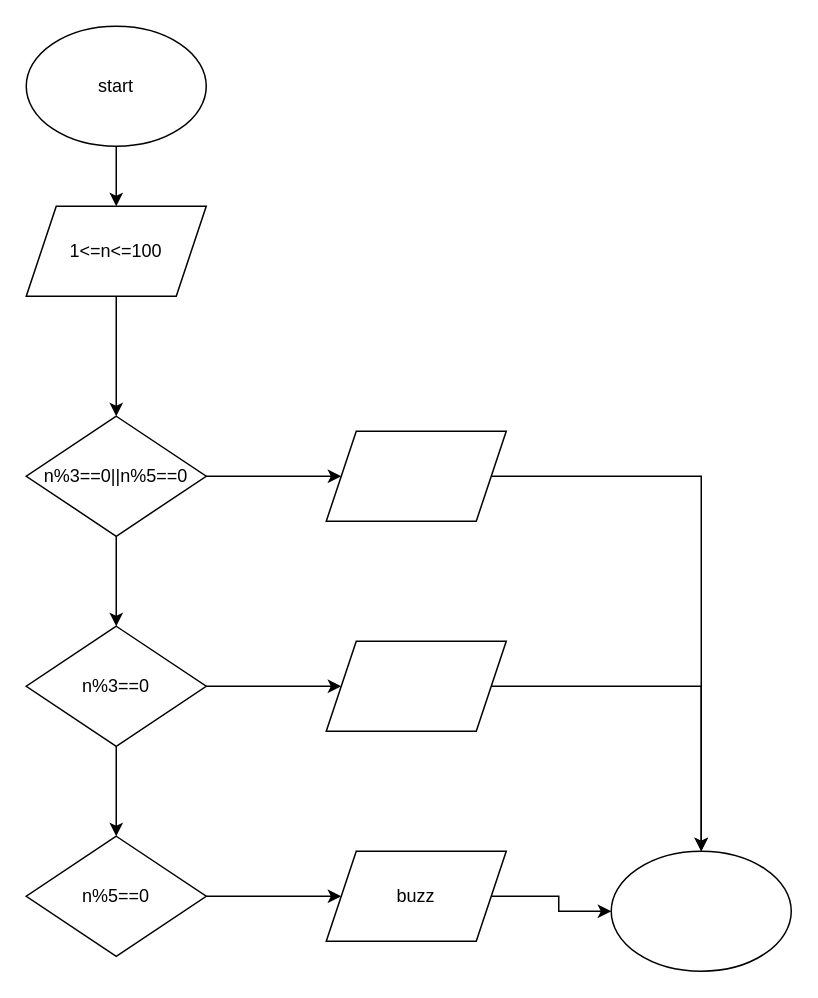
This 818x998 diagram has some shape labels left out. The shapes that lost their labels are listed below. From the top down, each one's centre as x and y in pixels, then its label:
At point (415, 475): "fizzbuzz".
At point (415, 685): "fizz".
At point (700, 910): "end".
